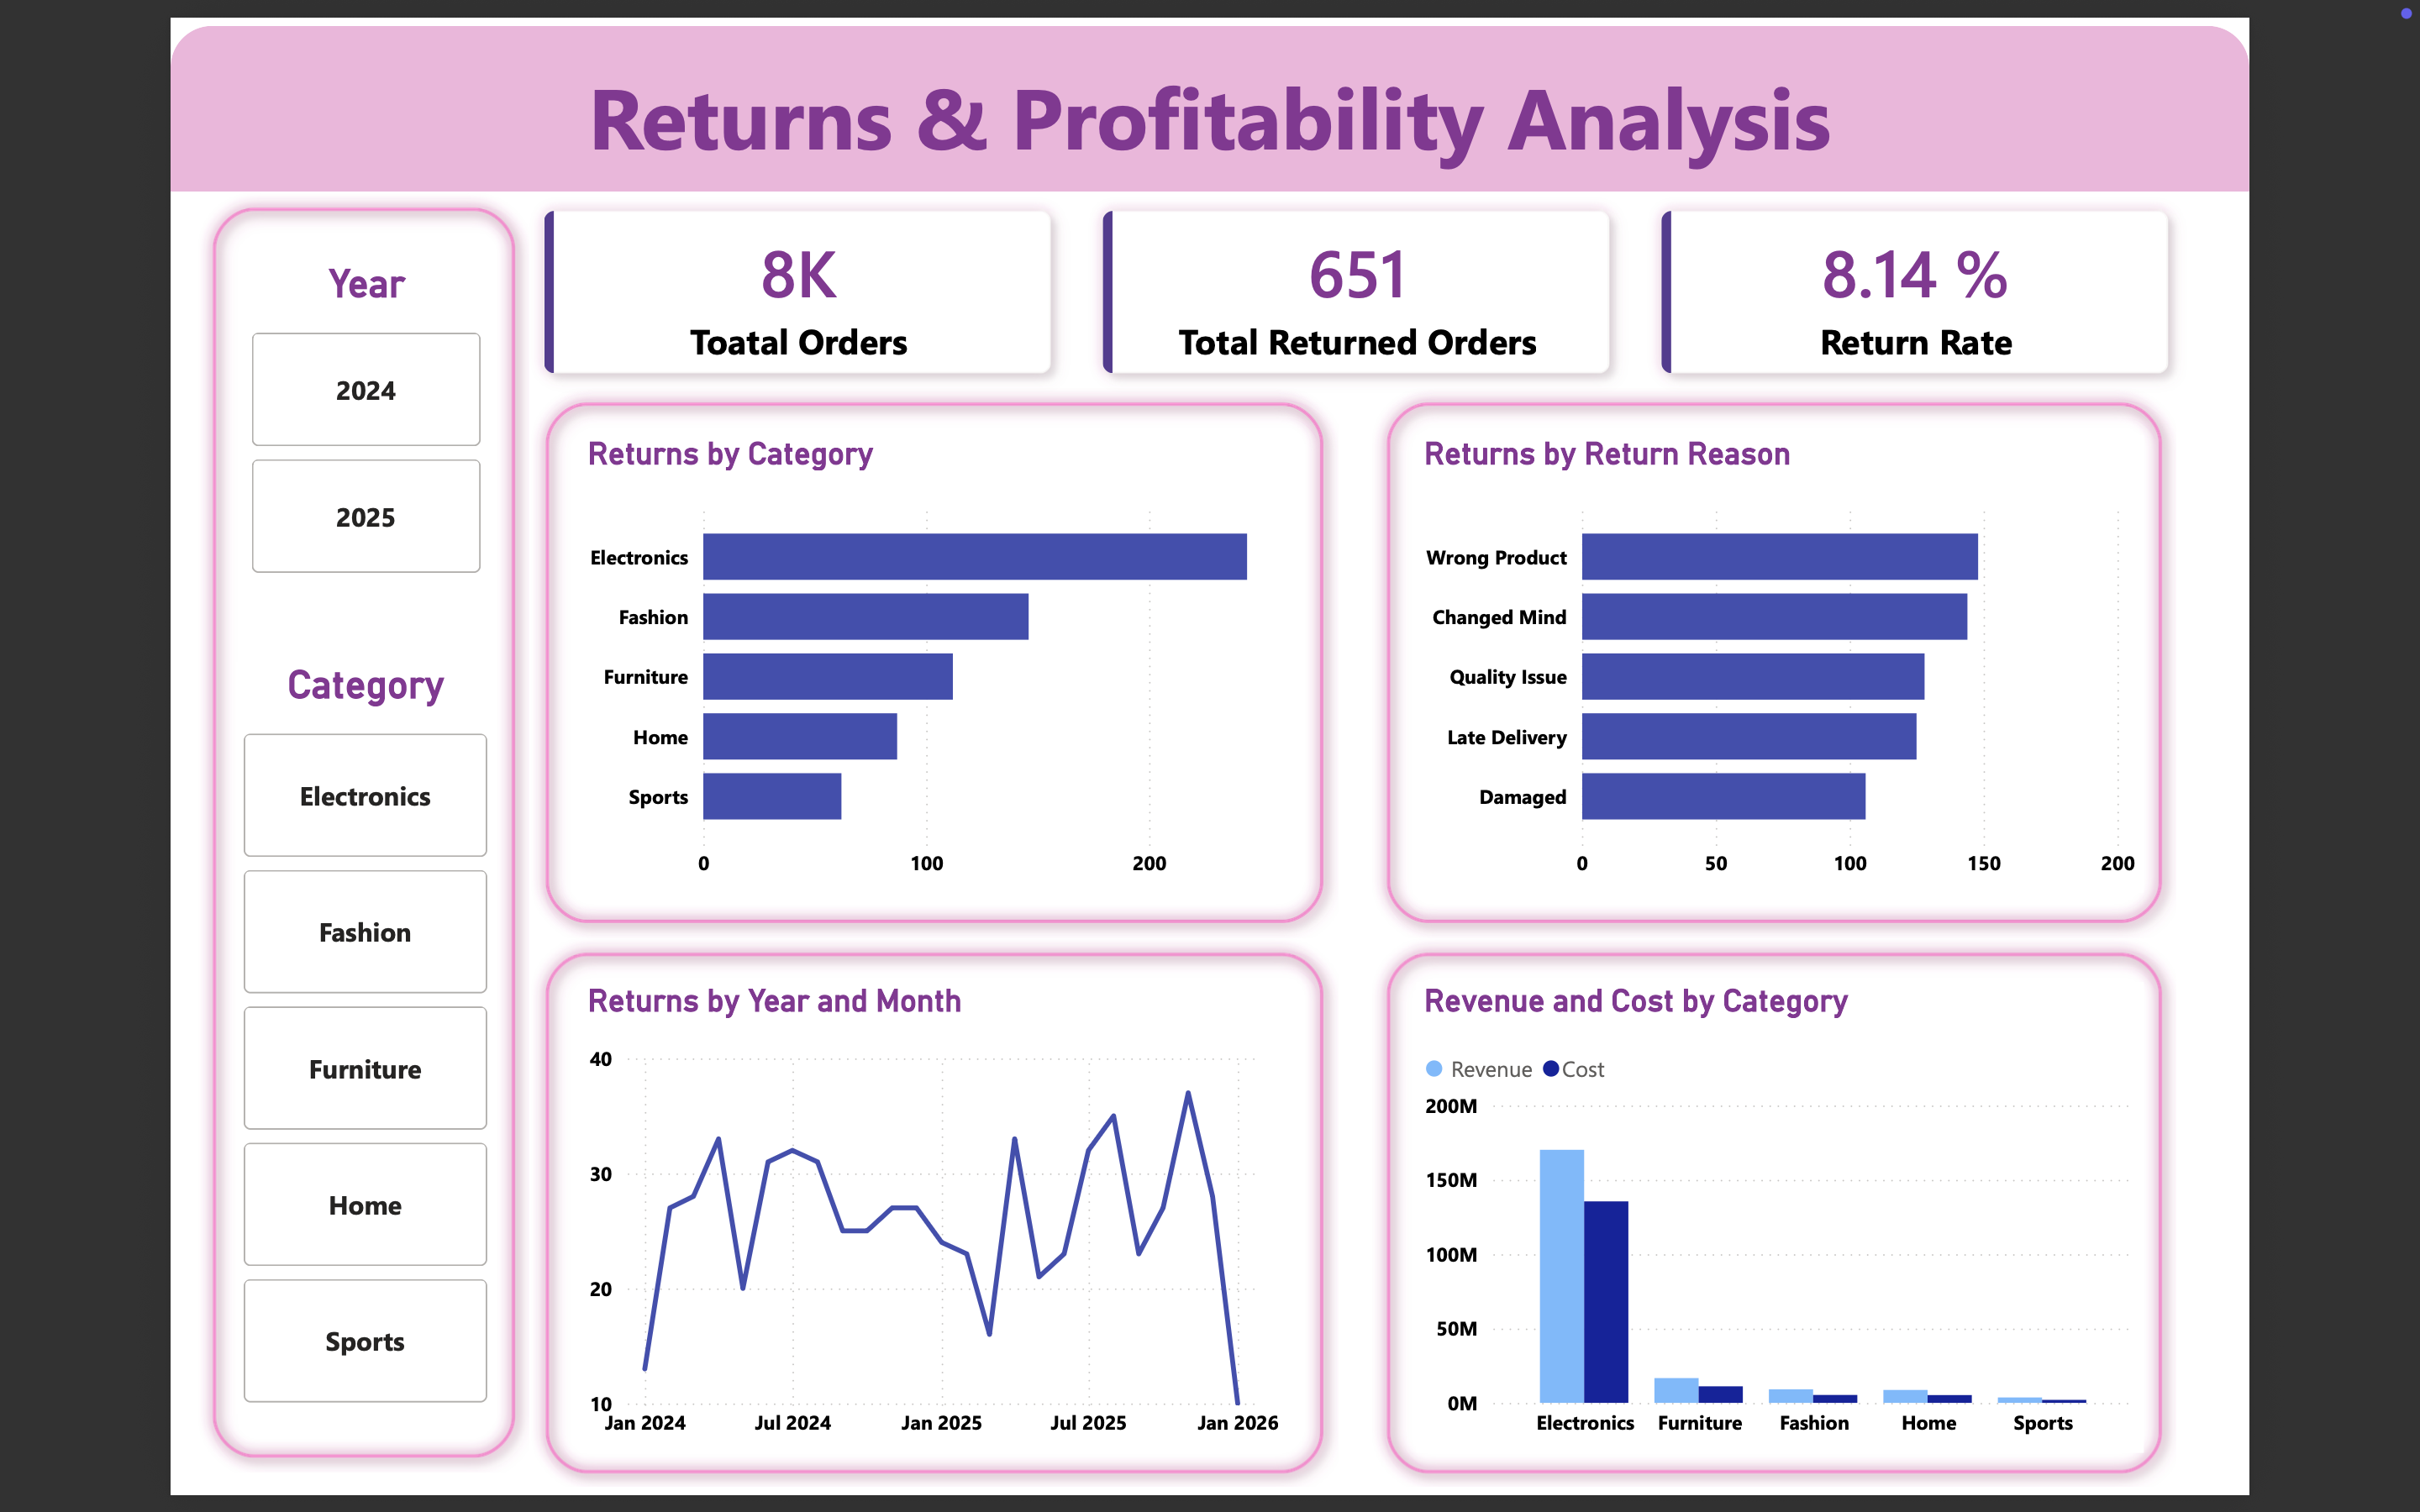

The page's visual inventory and layout, read from the dashboard file:
{"tool":"powerbi","page":{"name":"Returns & Profitability","canvas":[1280,900],"ordinal":2},"visuals":[{"type":"cardVisual","fields":{"Data":["Count(Sheet1.Order_ID)","Count(returns.Order_ID)","returns.Return Rate"]},"box":[200.9,85.4,1060.1,158.2],"z":0},{"type":"shape","box":[0,0,1280,102.2],"z":6},{"type":"shape","box":[17.4,102.8,204.1,787.9],"z":7},{"type":"shape","box":[740.5,561.7,495.2,338.6],"z":8},{"type":"shape","box":[740.5,223.1,495.2,338.6],"z":9},{"type":"shape","box":[221.5,223.1,496.8,338.6],"z":10},{"type":"shape","box":[221.5,561.7,496.8,338.6],"z":11},{"type":"clusteredBarChart","fields":{"Category":["Sheet1.Category"],"Y":["Count(returns.Order_ID)"]},"box":[251.6,251.6,435.1,281.6],"z":12},{"type":"clusteredBarChart","fields":{"Category":["returns.Return_Reason"],"Y":["Count(returns.Order_ID)"]},"box":[767.4,251.6,447.8,281.6],"z":13},{"type":"lineChart","fields":{"Category":["returns.Return_Date.Variation.Date Hierarchy.Year","returns.Return_Date.Variation.Date Hierarchy.Month"],"Y":["Count(returns.Order_ID)"]},"box":[251.6,588.6,435.1,289.5],"z":14},{"type":"clusteredColumnChart","fields":{"Category":["Sheet1.Category"],"Y":["Sum(Sheet1.Revenue)","Sum(Sheet1.Cost)"]},"box":[767.4,588.6,447.8,289.5],"z":15},{"type":"advancedSlicerVisual","fields":{"Values":["Sheet1.Year"]},"box":[44.9,145.5,151.7,196.6],"z":16},{"type":"advancedSlicerVisual","fields":{"Values":["Sheet1.Category"]},"box":[39.6,392.4,161,462.8],"z":17}]}

Visuals, with their boxes on the page's 1280x900 design canvas (x1, y1, x2, y2). These are canvas units, not pixel positions in the 2420x1512 screenshot, which may show the page scaled, cropped or inside an application window:
cardVisual - Count(Sheet1.Order_ID) x Count(returns.Order_ID): <region>201, 85, 1261, 244</region>
shape: <region>0, 0, 1280, 102</region>
shape: <region>17, 103, 222, 891</region>
shape: <region>740, 562, 1236, 900</region>
shape: <region>740, 223, 1236, 562</region>
shape: <region>222, 223, 718, 562</region>
shape: <region>222, 562, 718, 900</region>
clusteredBarChart - Sheet1.Category x Count(returns.Order_ID): <region>252, 252, 687, 533</region>
clusteredBarChart - returns.Return_Reason x Count(returns.Order_ID): <region>767, 252, 1215, 533</region>
lineChart - returns.Return_Date.Variation.Date Hierarchy.Year x returns.Return_Date.Variation.Date Hierarchy.Month: <region>252, 589, 687, 878</region>
clusteredColumnChart - Sheet1.Category x Sum(Sheet1.Revenue): <region>767, 589, 1215, 878</region>
advancedSlicerVisual - Sheet1.Year: <region>45, 146, 197, 342</region>
advancedSlicerVisual - Sheet1.Category: <region>40, 392, 201, 855</region>
